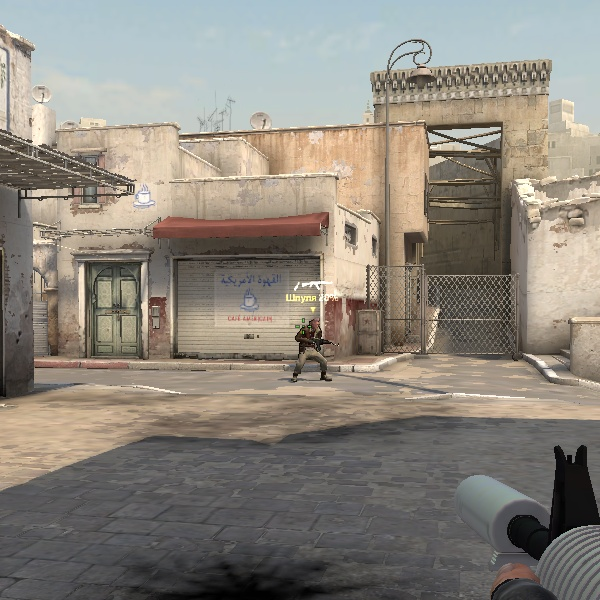t_body: (292, 314, 332, 382)
t_head: (308, 315, 324, 331)
